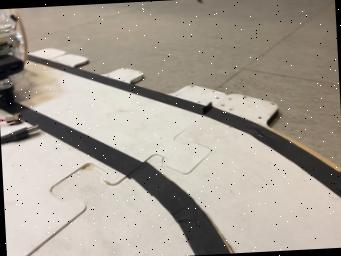street: (1, 68, 341, 256), (1, 68, 341, 256), (1, 68, 341, 256), (28, 54, 341, 197), (28, 54, 341, 197), (28, 54, 341, 197)
